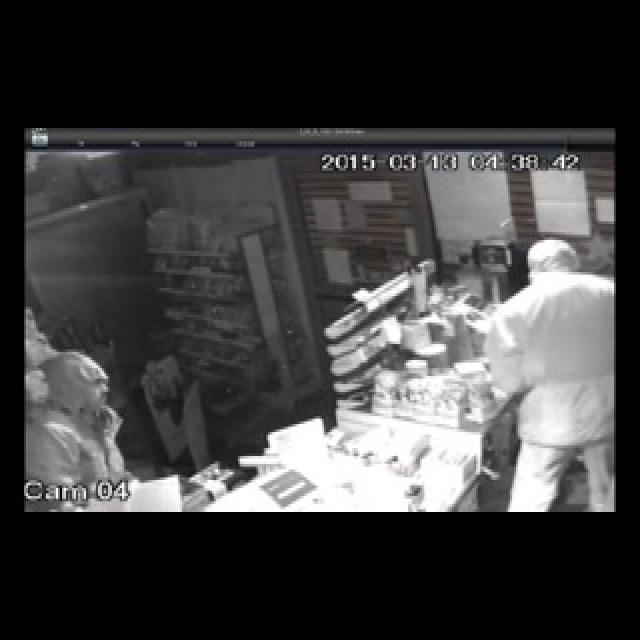thief: (480, 246, 610, 514), (30, 355, 148, 499)
